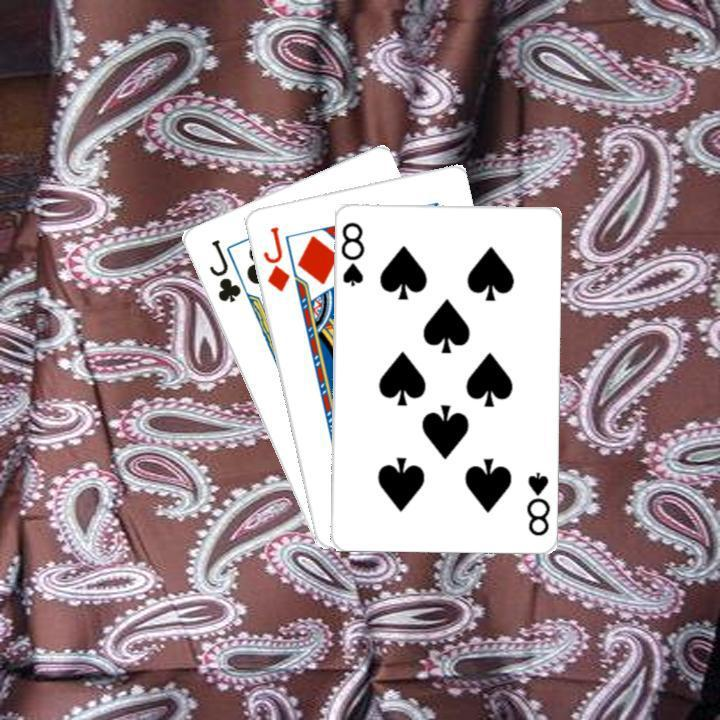8: (337, 217, 366, 288), (522, 467, 551, 537)
J: (204, 235, 243, 304), (258, 222, 292, 294)
